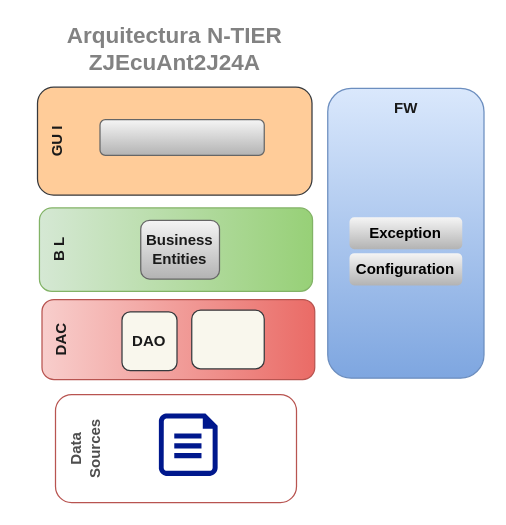
The diagram is 506 pixels wide and 525 high, and some of its shapes have lost their labels. Each missing label, with the centre of its shape:
"DTO" goes at [227,339].
"File" goes at [187,444].
"UI Component" goes at [181,136].
